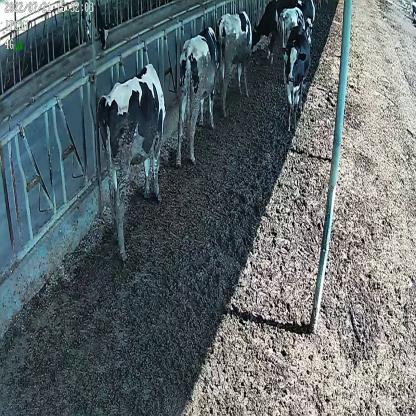cow: (98, 62, 166, 258), (176, 26, 220, 167), (215, 10, 253, 118), (280, 27, 310, 132)
